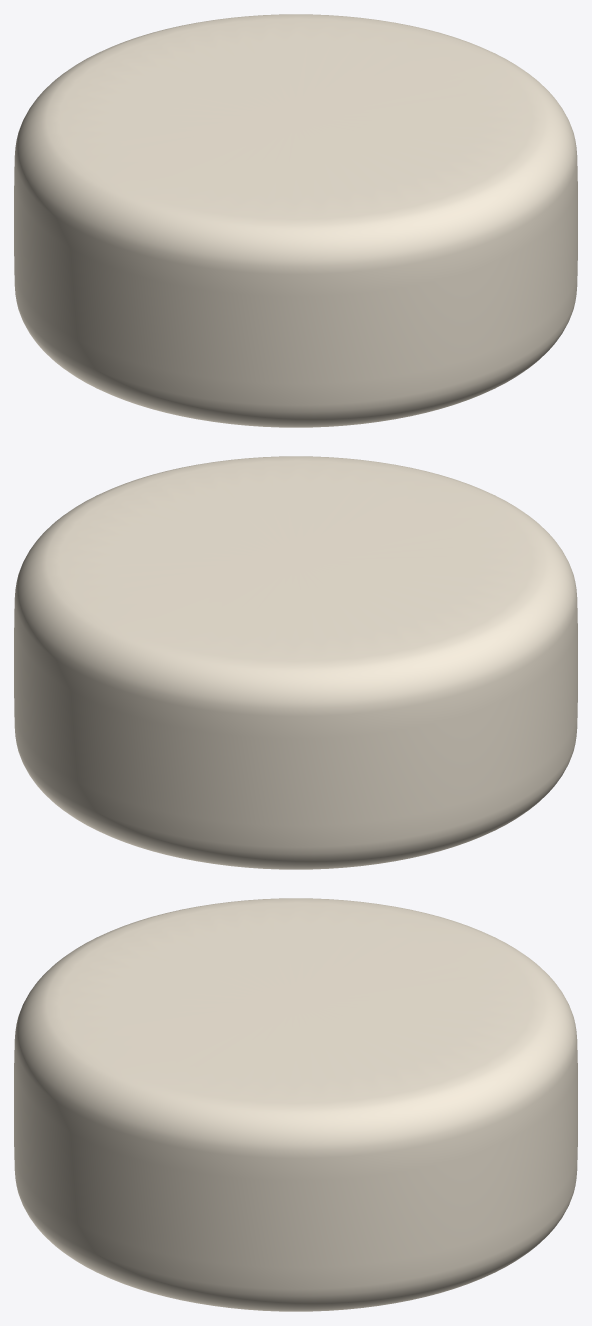
The picture shows the model from 3 angles, top to bottom: view 1: azimuth 30°, elevation 25°; view 2: azimuth 150°, elevation 25°; view 3: azimuth 270°, elevation 25°; orthographic projection.
Visible parts, largest first — view 1: coffee-drum-01; view 2: coffee-drum-01; view 3: coffee-drum-01.
Boxes of the visible parts, x1,y1,x2,y2 form: coffee-drum-01: (14, 14, 577, 427); coffee-drum-01: (14, 456, 577, 869); coffee-drum-01: (14, 898, 577, 1311).
Size of the model in its own units: 0.8972 by 0.3599 by 0.8972.
